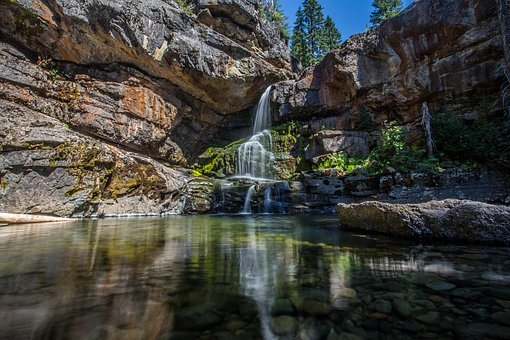lake: (4, 216, 510, 339)
stone: (1, 4, 254, 220), (309, 5, 509, 234)
waterfall: (225, 69, 317, 227)
